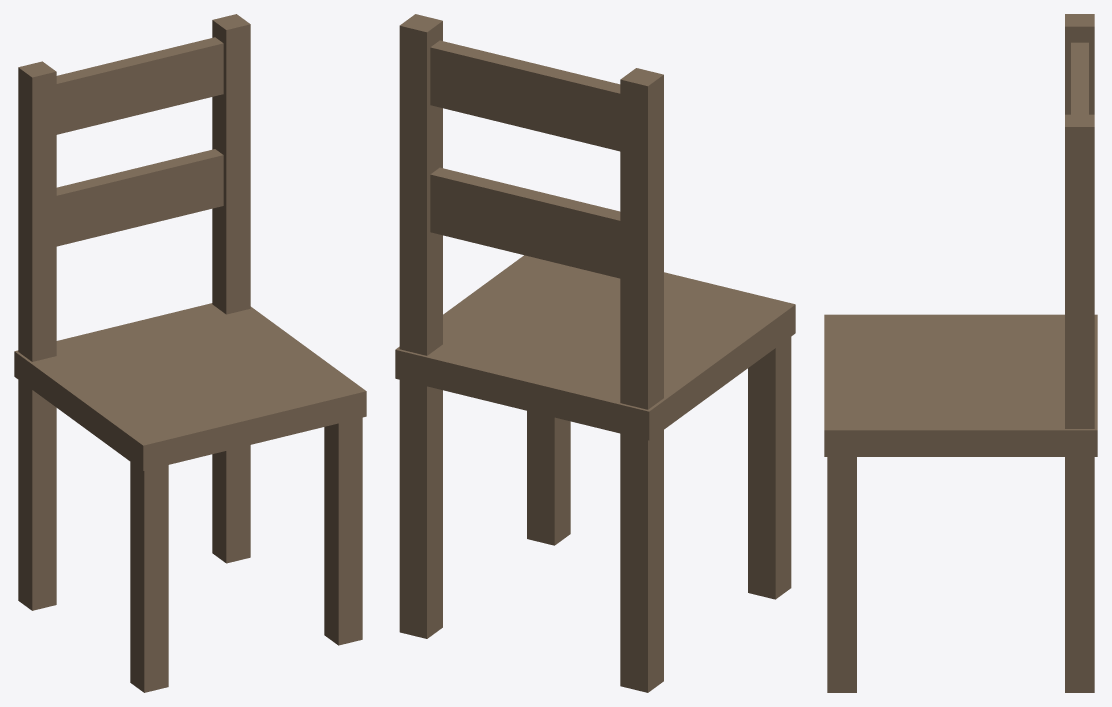
File: chair.glb
The picture shows the model from 3 angles, left to right: view 1: azimuth 30°, elevation 25°; view 2: azimuth 150°, elevation 25°; view 3: azimuth 270°, elevation 25°; orthographic projection. The views are drawn at different scales.
Visible parts, largest first — view 1: wood; view 2: wood; view 3: wood.
Part boxes in pixels (box(x1,y1,x2,y2)): wood: box(14, 14, 366, 692); wood: box(395, 14, 795, 692); wood: box(824, 14, 1097, 692).
Size of the model in its own units: 0.46 by 1.05 by 0.46.
